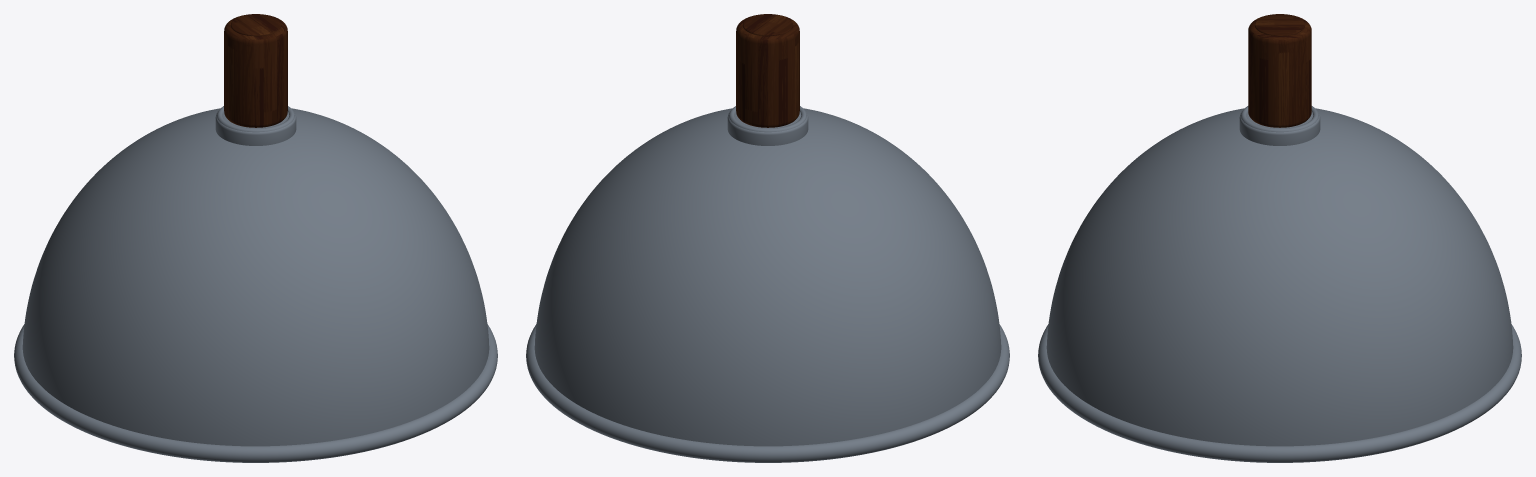
File: FoodDoom.glb
The picture shows the model from 3 angles, left to right: view 1: azimuth 30°, elevation 25°; view 2: azimuth 150°, elevation 25°; view 3: azimuth 270°, elevation 25°; orthographic projection.
Visible parts, largest first — view 1: Food_Dome_Metal_Shell, Food_Dome_Rolled_Rim, Handle_Wood_Cylinder, Handle_Metal_Collar, Handle_Wood_Top_Inset, Handle_Collar_Ring; view 2: Food_Dome_Metal_Shell, Food_Dome_Rolled_Rim, Handle_Wood_Cylinder, Handle_Metal_Collar, Handle_Wood_Top_Inset, Handle_Collar_Ring; view 3: Food_Dome_Metal_Shell, Food_Dome_Rolled_Rim, Handle_Wood_Cylinder, Handle_Metal_Collar, Handle_Wood_Top_Inset, Handle_Collar_Ring.
Boxes of the visible parts, x1,y1,x2,y2 form: Food_Dome_Metal_Shell: (22, 108, 489, 446); Food_Dome_Rolled_Rim: (14, 324, 497, 462); Handle_Wood_Cylinder: (224, 15, 287, 127); Handle_Metal_Collar: (215, 111, 296, 145); Handle_Wood_Top_Inset: (230, 14, 281, 36); Handle_Collar_Ring: (217, 106, 294, 132); Food_Dome_Metal_Shell: (534, 108, 1001, 446); Food_Dome_Rolled_Rim: (526, 324, 1009, 462); Handle_Wood_Cylinder: (736, 15, 799, 127); Handle_Metal_Collar: (727, 111, 808, 145); Handle_Wood_Top_Inset: (742, 14, 793, 36); Handle_Collar_Ring: (729, 106, 806, 132); Food_Dome_Metal_Shell: (1046, 108, 1513, 446); Food_Dome_Rolled_Rim: (1038, 324, 1521, 462); Handle_Wood_Cylinder: (1248, 15, 1311, 127); Handle_Metal_Collar: (1239, 111, 1320, 145); Handle_Wood_Top_Inset: (1254, 14, 1305, 36); Handle_Collar_Ring: (1241, 106, 1318, 132).
Size of the model in its own units: 0.342 by 0.2647 by 0.342.
Materials: 2 (1 with a texture image).
